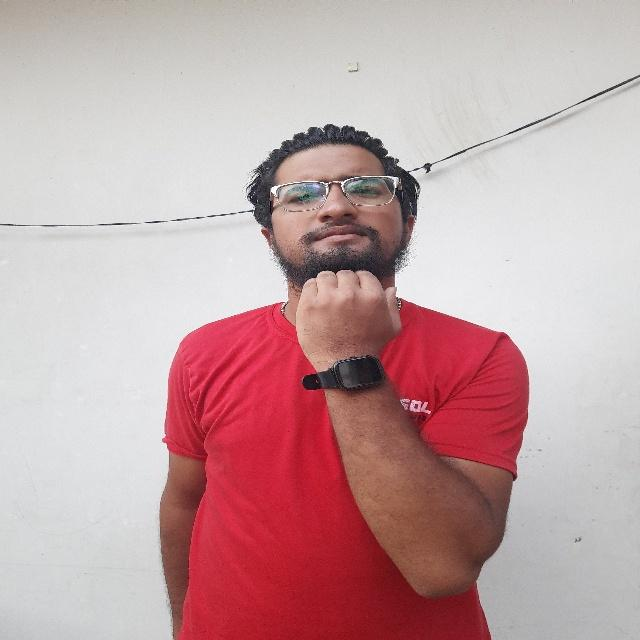Chin Flick: (244, 109, 424, 379)
